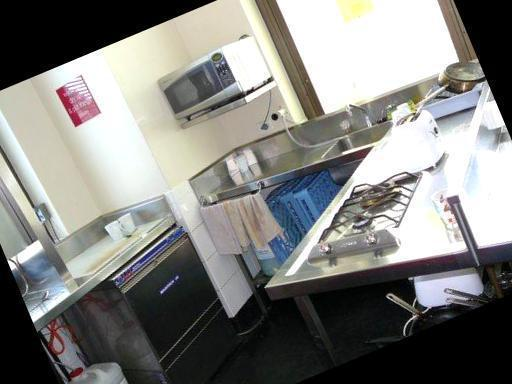Electrodomestico: (75, 211, 257, 384), (312, 151, 453, 285)
Lavaplatos: (302, 86, 387, 174)
